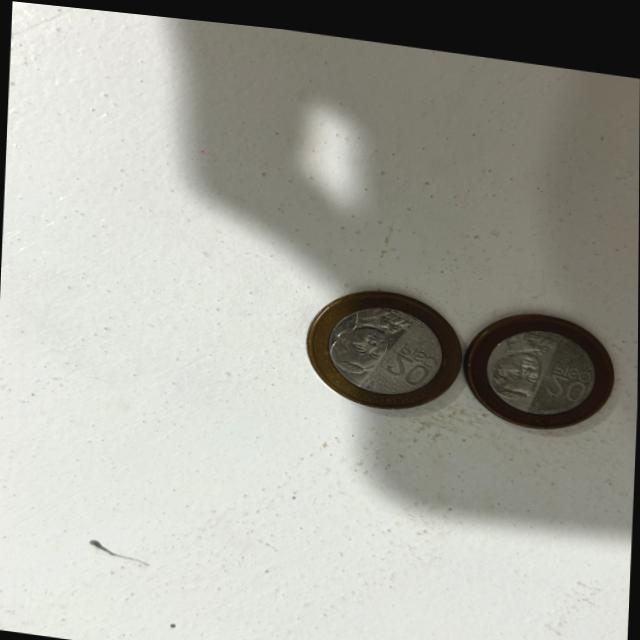20_New_Front: (379, 320, 445, 381), (542, 342, 596, 391)
